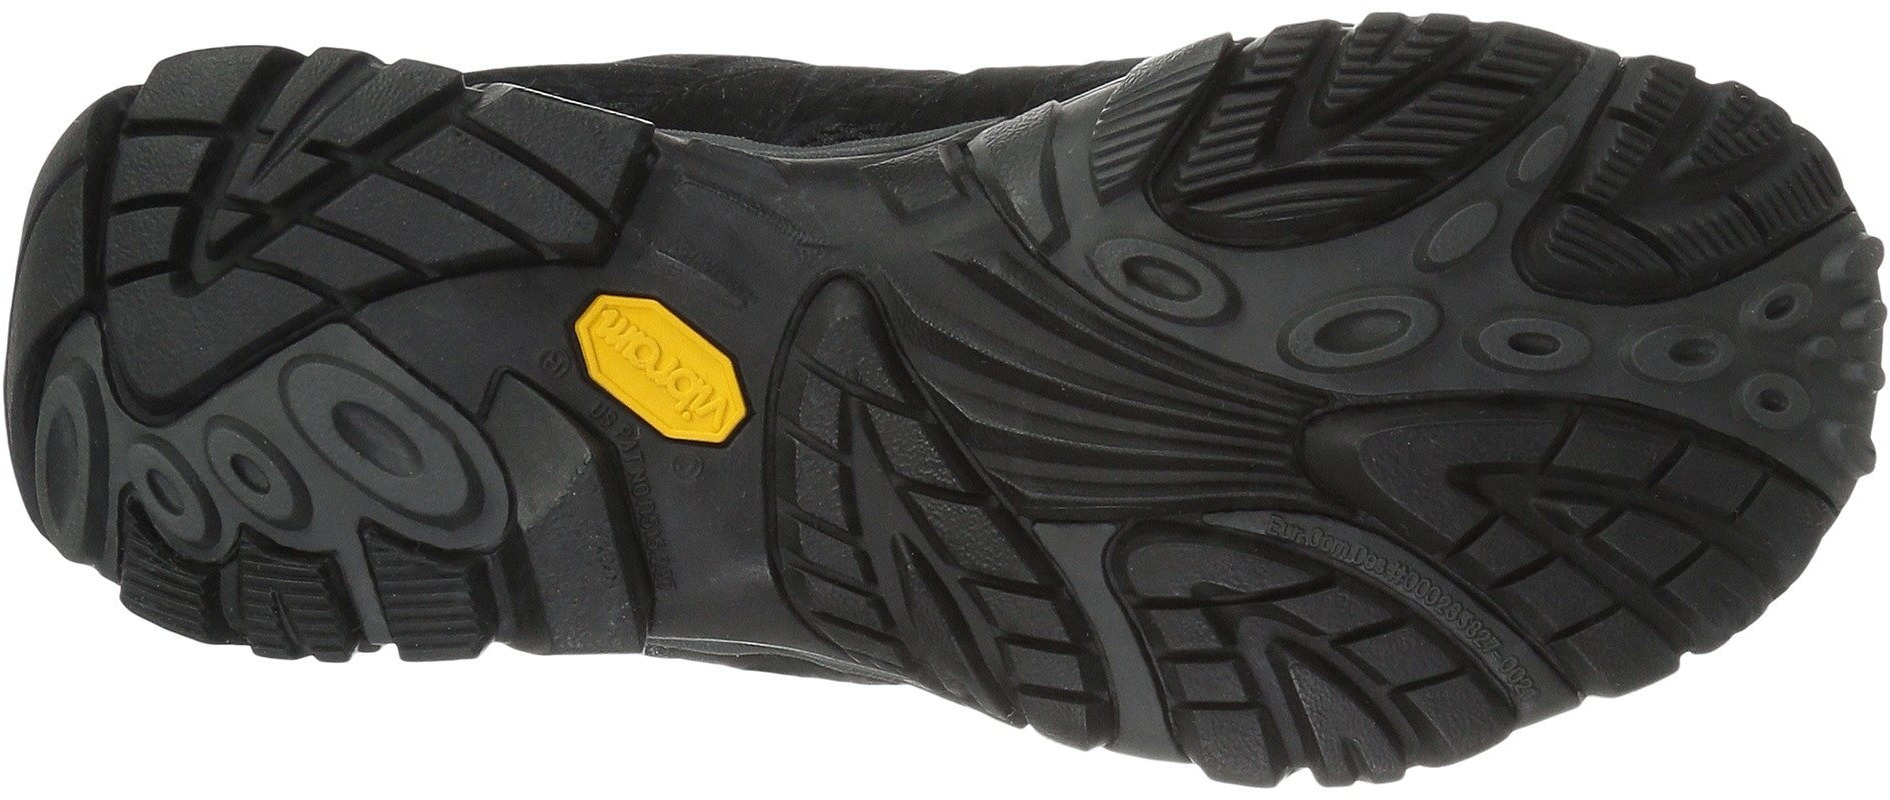circle: (253, 339, 475, 539), (1244, 251, 1426, 398), (1735, 270, 1874, 414)
quad: (1135, 563, 1389, 735), (781, 400, 986, 590), (1575, 427, 1763, 623), (1250, 33, 1446, 173), (325, 155, 466, 300)
text: (589, 329, 716, 436)
